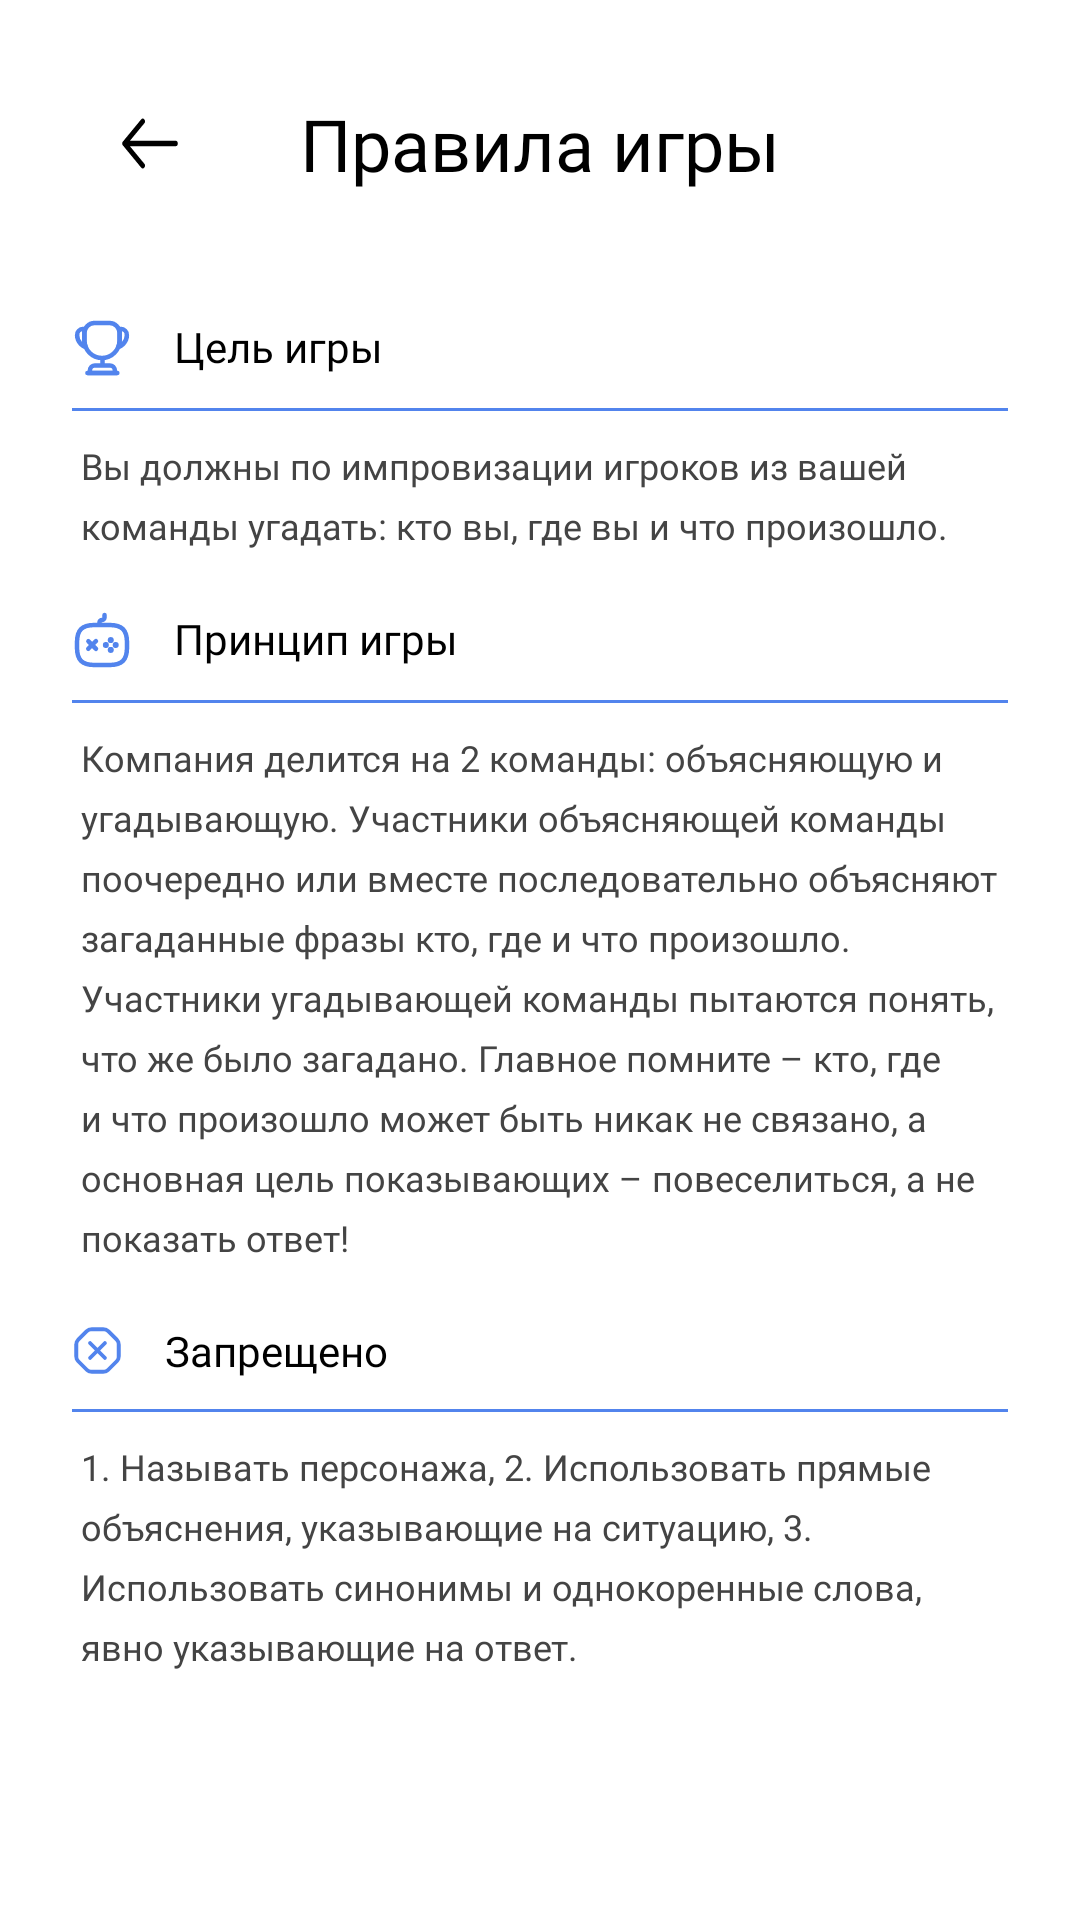

Point at icon controls on the screen. Image size 1080px x 1920px, points as (x,y).
arrow: (150,143)
